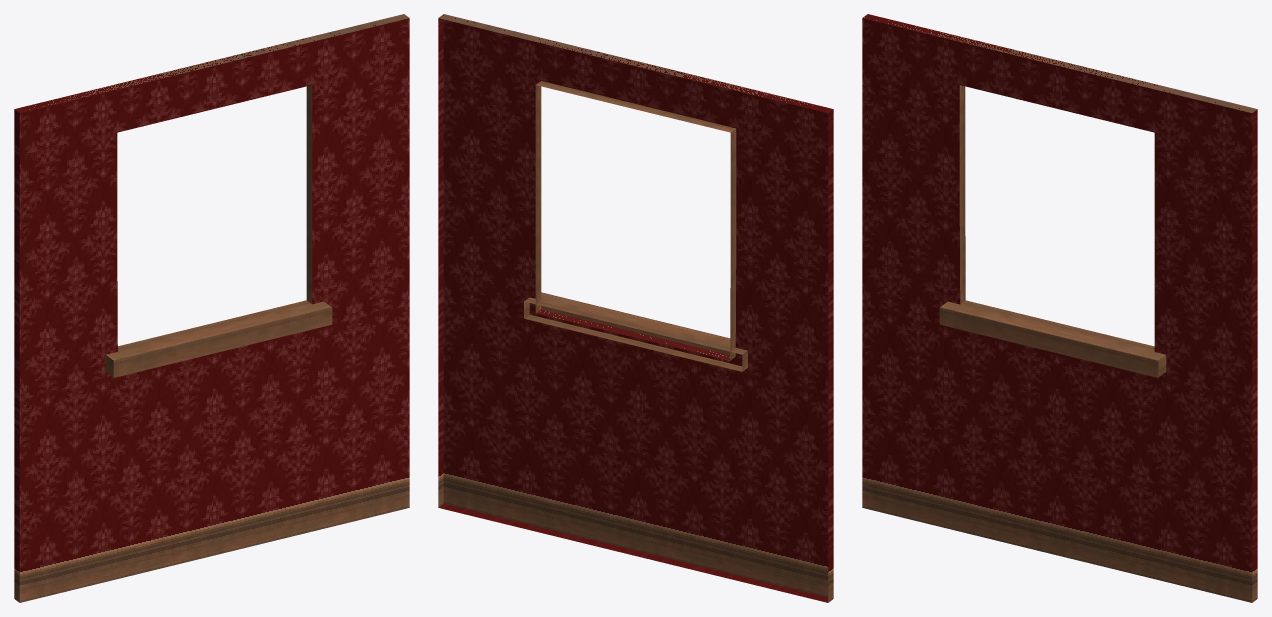
Rendered from wall_4_001.glb.
3 views of the same model, side by side, from view 1: azimuth 30°, elevation 25°; view 2: azimuth 150°, elevation 25°; view 3: azimuth 330°, elevation 25° (orthographic).
Visible parts, largest first — view 1: wall_4.001; view 2: wall_4.001; view 3: wall_4.001.
Boxes of the visible parts, x1,y1,x2,y2 form: wall_4.001: [14, 14, 409, 602]; wall_4.001: [438, 14, 833, 602]; wall_4.001: [862, 14, 1257, 602].
Bounding box in the file's own units: 2 × 2.4 × 0.1226.
Materials: 1 (1 with a texture image).
